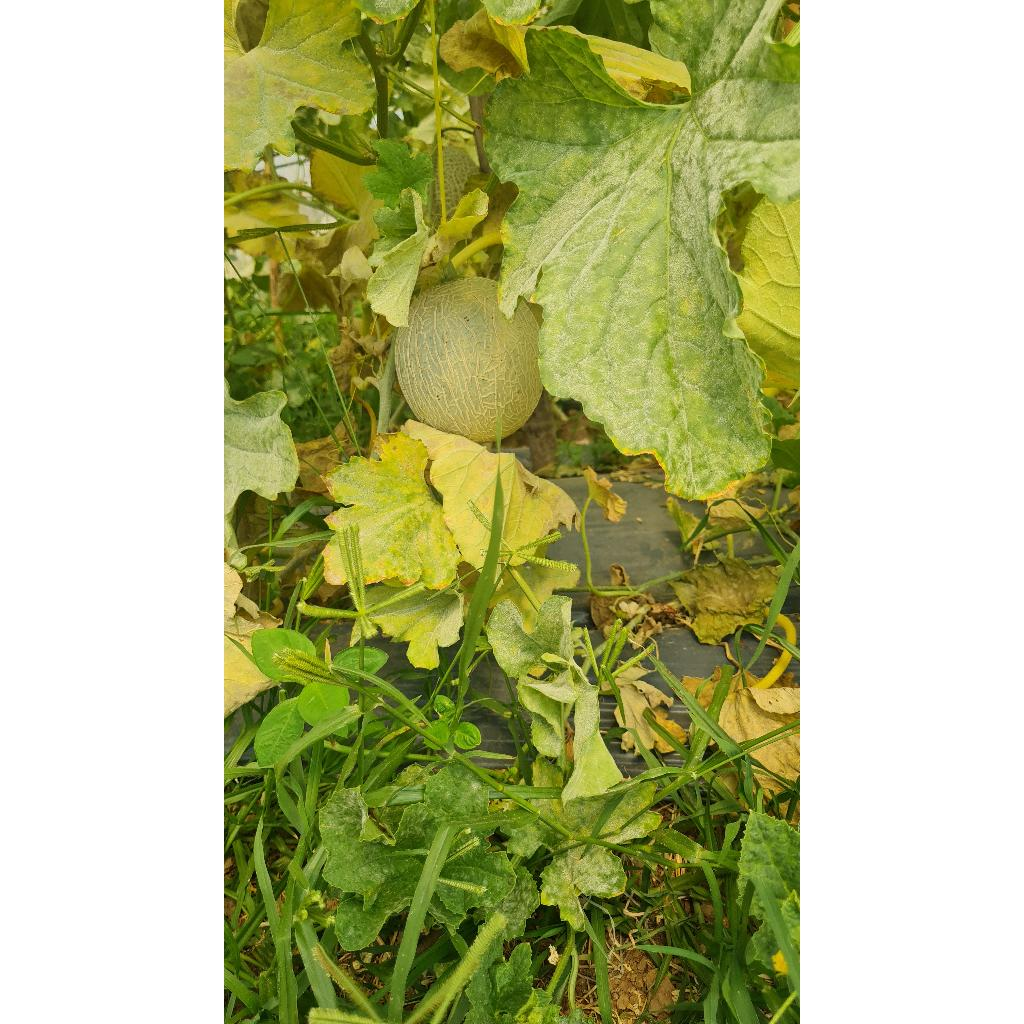melon: (394, 276, 542, 442)
